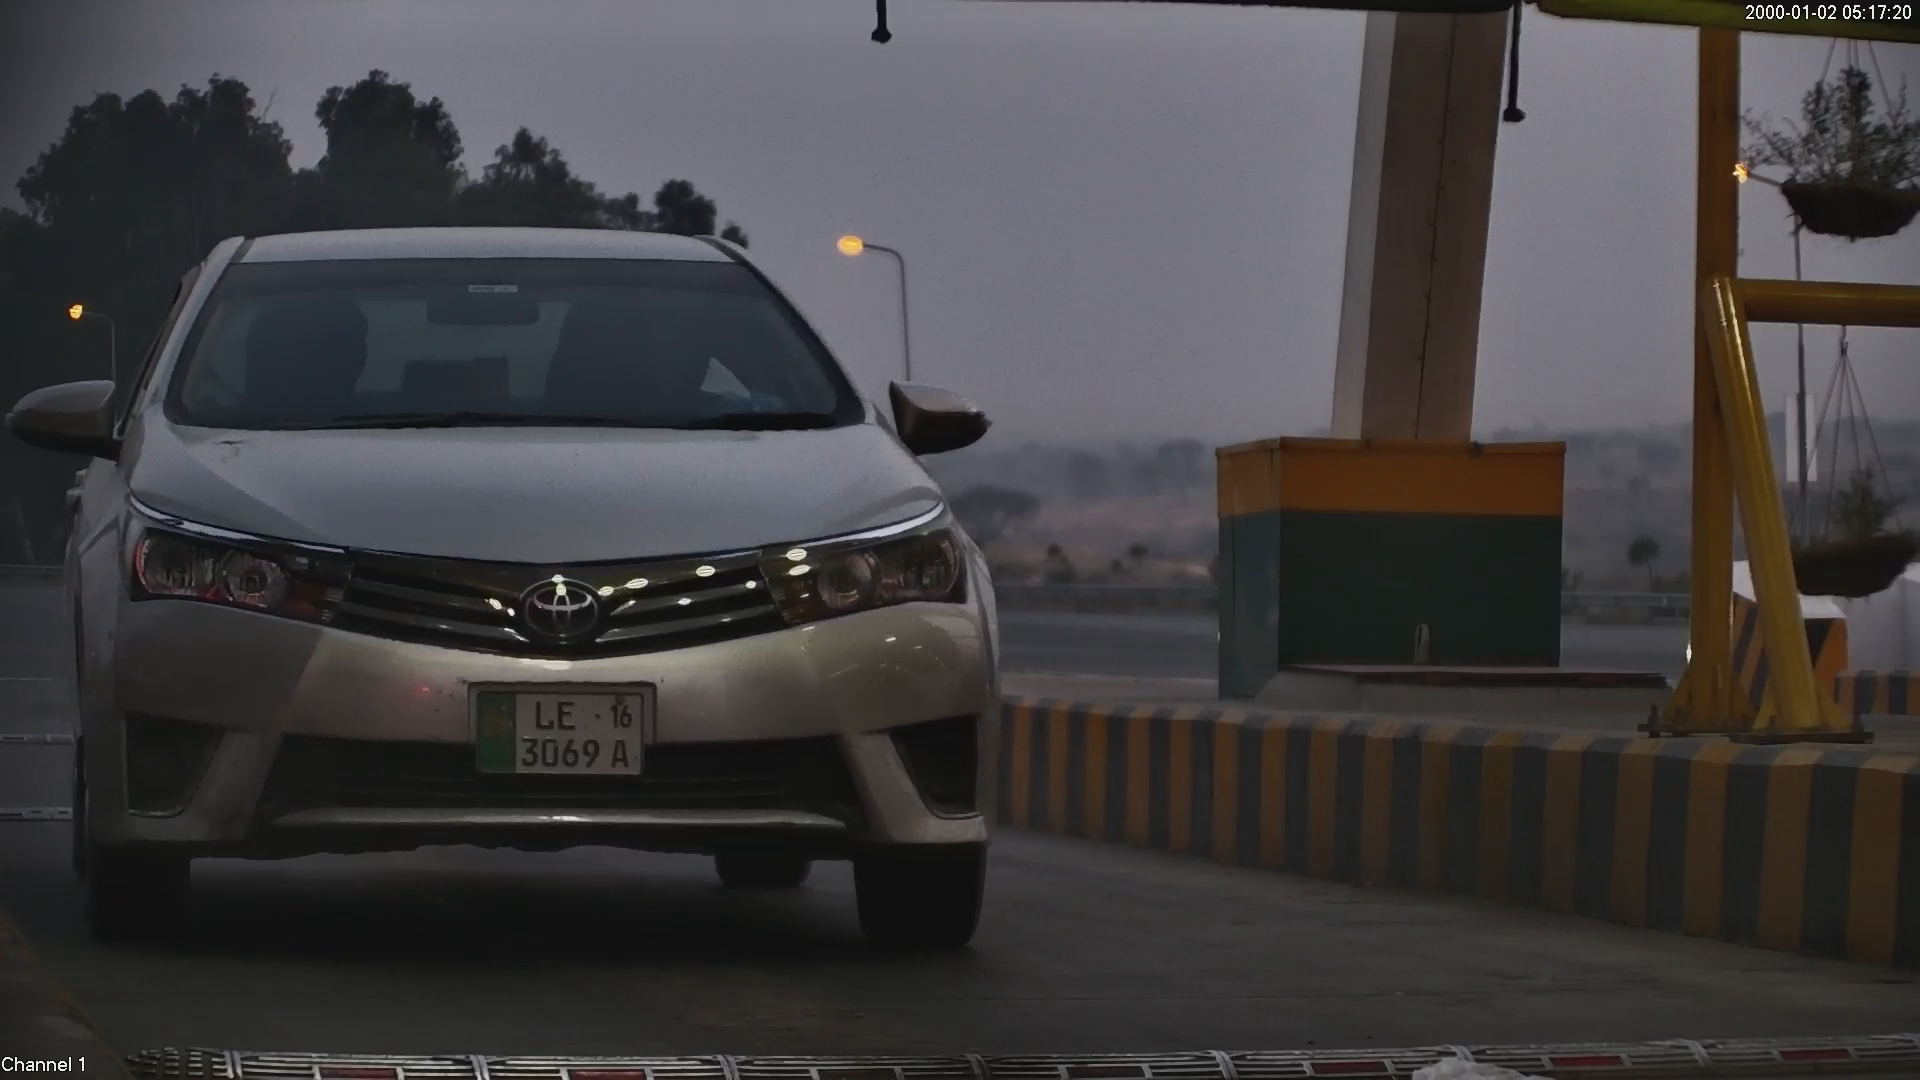Number_Plate: (468, 679, 656, 788)
